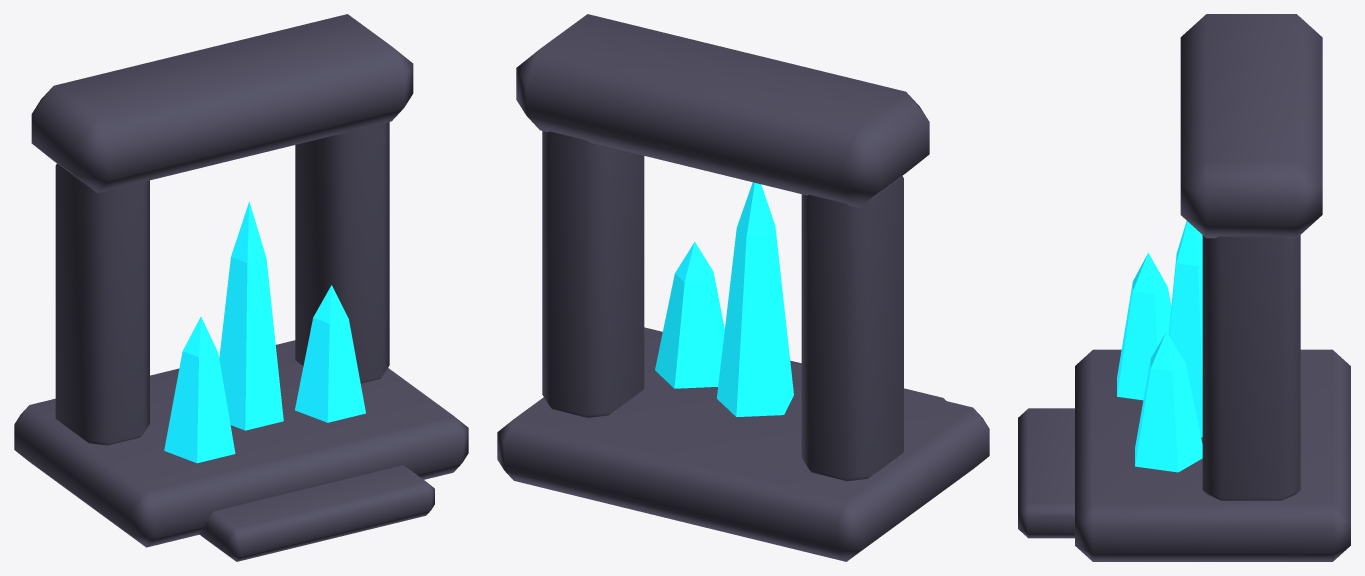
Rendered from sanctuaire.glb.
3 views of the same model, side by side, from view 1: azimuth 30°, elevation 25°; view 2: azimuth 150°, elevation 25°; view 3: azimuth 270°, elevation 25° (orthographic). The views are drawn at different scales.
Parts seen in each view (by area): view 1: Shrine, Shrine_Lintel, Shrine_Base, Shrine_Step, Crystal_Shaft_0, Crystal_Shaft_1, Crystal_Shaft_2, Crystal_Tip_0, Crystal_Tip_1, Crystal_Tip_2; view 2: Shrine, Shrine_Base, Shrine_Lintel, Crystal_Shaft_0, Crystal_Shaft_2, Crystal_Tip_0, Crystal_Tip_2; view 3: Shrine_Base, Shrine_Lintel, Shrine, Shrine_Step, Crystal_Shaft_2, Crystal_Shaft_1, Crystal_Shaft_0, Crystal_Tip_0, Crystal_Tip_1, Crystal_Tip_2.
Boxes of the visible parts, box(x1,y1,x2,y2) form: Shrine: box(55, 122, 389, 445); Shrine_Lintel: box(31, 14, 413, 192); Shrine_Base: box(14, 340, 468, 547); Shrine_Step: box(198, 465, 434, 561); Crystal_Shaft_0: box(219, 257, 283, 430); Crystal_Shaft_1: box(164, 351, 235, 463); Crystal_Shaft_2: box(295, 317, 365, 422); Crystal_Tip_0: box(231, 201, 266, 262); Crystal_Tip_1: box(183, 316, 217, 357); Crystal_Tip_2: box(313, 285, 348, 323); Shrine: box(542, 131, 903, 481); Shrine_Base: box(497, 327, 989, 561); Shrine_Lintel: box(516, 14, 929, 207); Crystal_Shaft_0: box(717, 226, 793, 416); Crystal_Shaft_2: box(655, 272, 724, 388); Crystal_Tip_0: box(737, 182, 775, 236); Crystal_Tip_2: box(675, 242, 713, 282); Shrine_Base: box(1075, 349, 1350, 561); Shrine_Lintel: box(1180, 14, 1322, 238); Shrine: box(1202, 235, 1300, 500); Shrine_Step: box(1018, 408, 1074, 538); Crystal_Shaft_2: box(1135, 360, 1202, 472); Crystal_Shaft_1: box(1117, 283, 1171, 400); Crystal_Shaft_0: box(1168, 254, 1202, 437); Crystal_Tip_0: box(1176, 221, 1202, 265); Crystal_Tip_1: box(1132, 253, 1167, 294); Crystal_Tip_2: box(1150, 332, 1185, 370).
Bounding box in the file's own units: 1.55 × 1.73 × 1.29.
